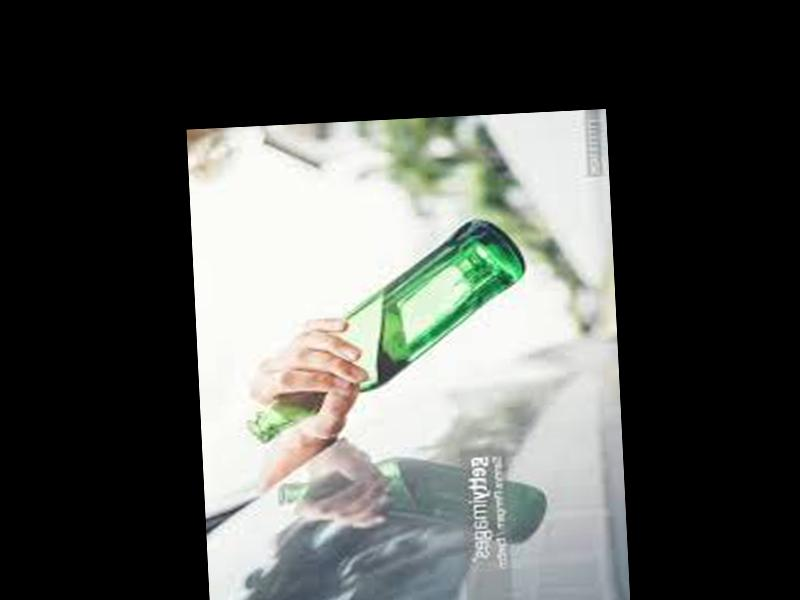Beer: (240, 219, 534, 446)
